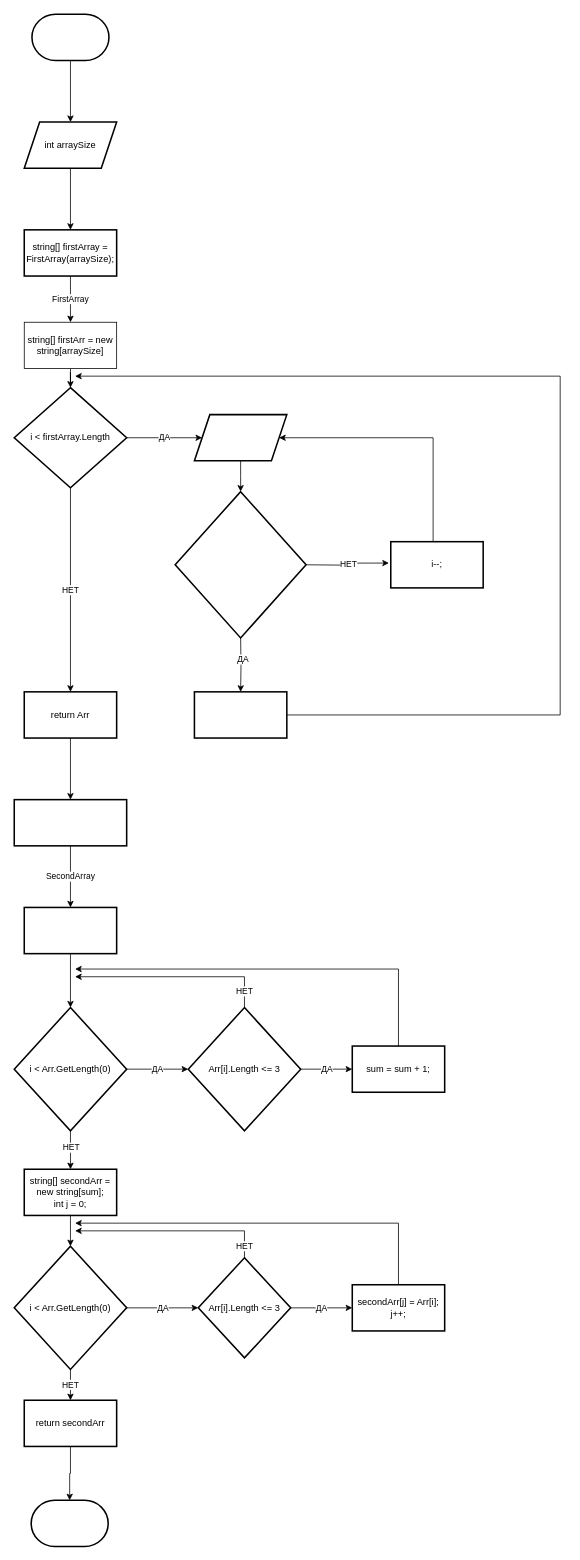
The diagram is 580 pixels wide and 1560 high, and some of its shapes have lost their labels. Each missing label, with the centre of its shape:
!String.IsNullOrEmpty(input): pixel 240 564
End: pixel 69 1523
firstArr[i] = input;: pixel 240 714
int sum = 0; string[] Arr;: pixel 70 930
Start: pixel 70 37
string input: pixel 240 437
string[] secondArray = SecondArray(firstArray);: pixel 70 822
